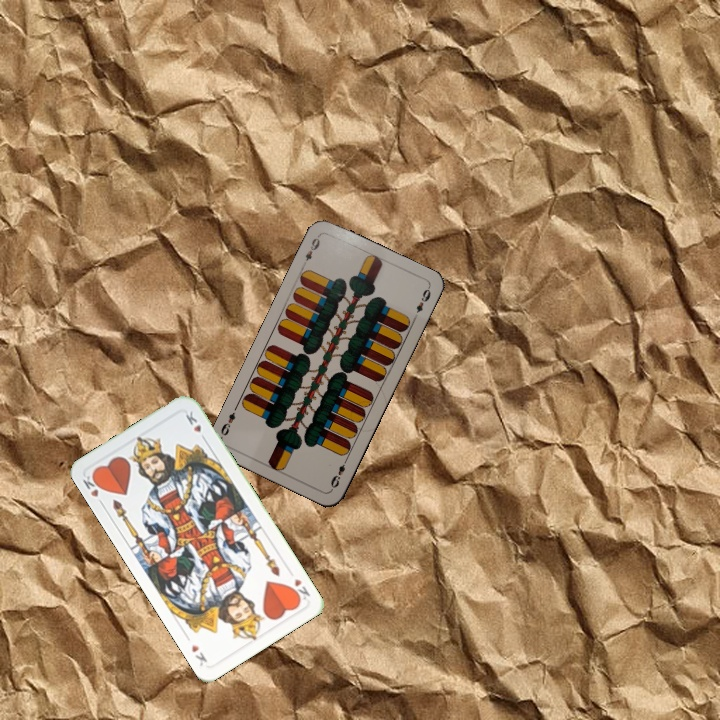E9: (298, 231, 322, 269), (327, 454, 351, 491)
HK: (78, 469, 106, 509), (287, 574, 313, 604)
